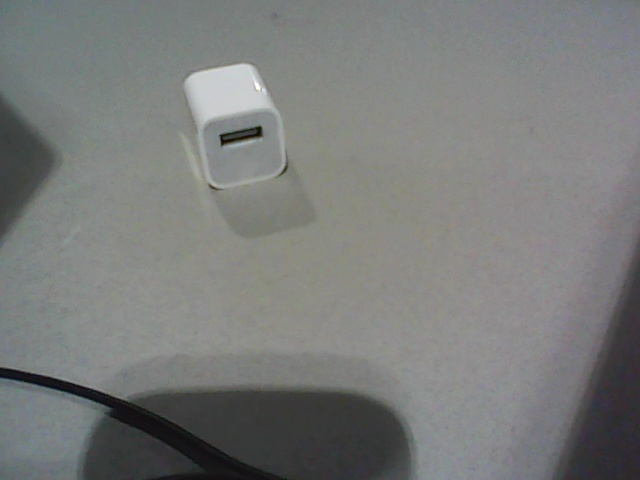charger: (182, 62, 288, 191)
